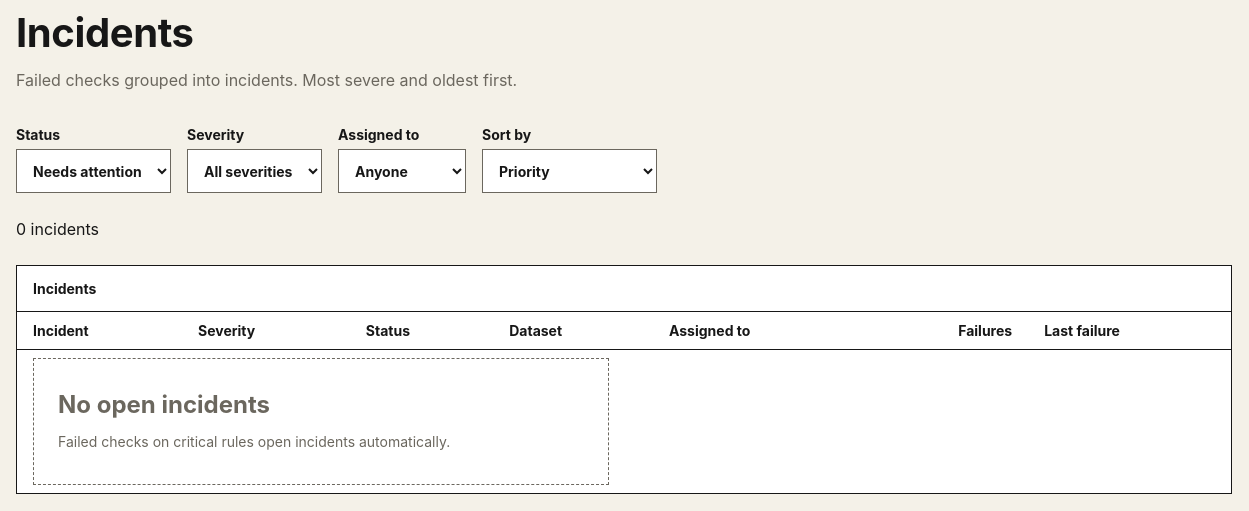
Test: Incidents page › explains an empty default list and a filter with no matches
The width and height of the screenshot is (1249, 511).
Expected: the heading "No open incidents" is shown, [58,391,270,419]
Expected: the text "Failed checks on critical rules open incidents automatically." is shown, [58,431,450,452]
Select "Info" in the dropdown labelled "Severity" at (254, 171), box [187,149,322,193]
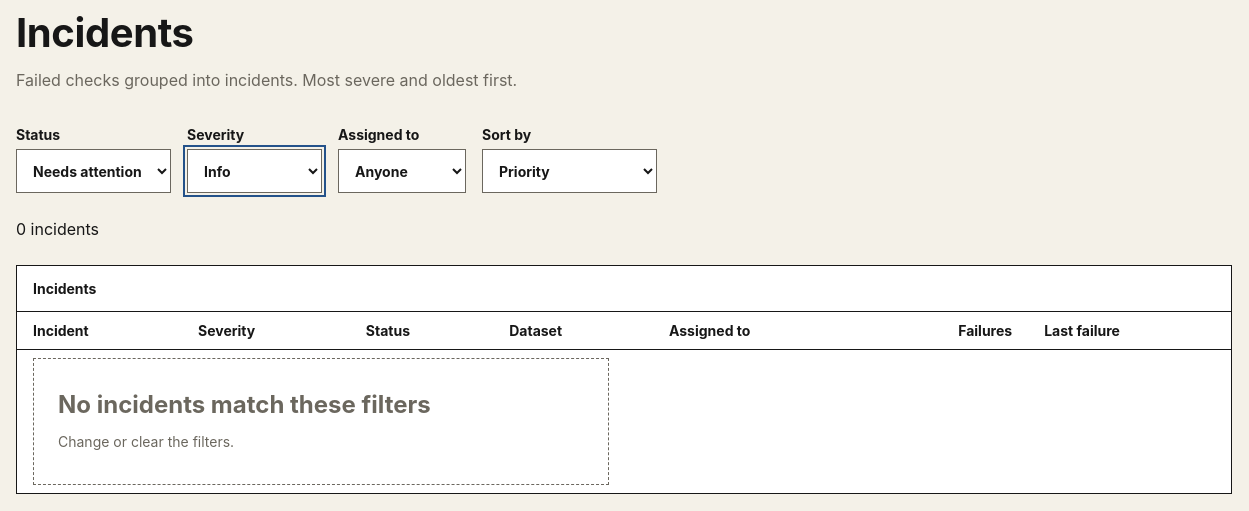
Now the heading "No incidents match these filters" is shown, box [58,391,431,419]
